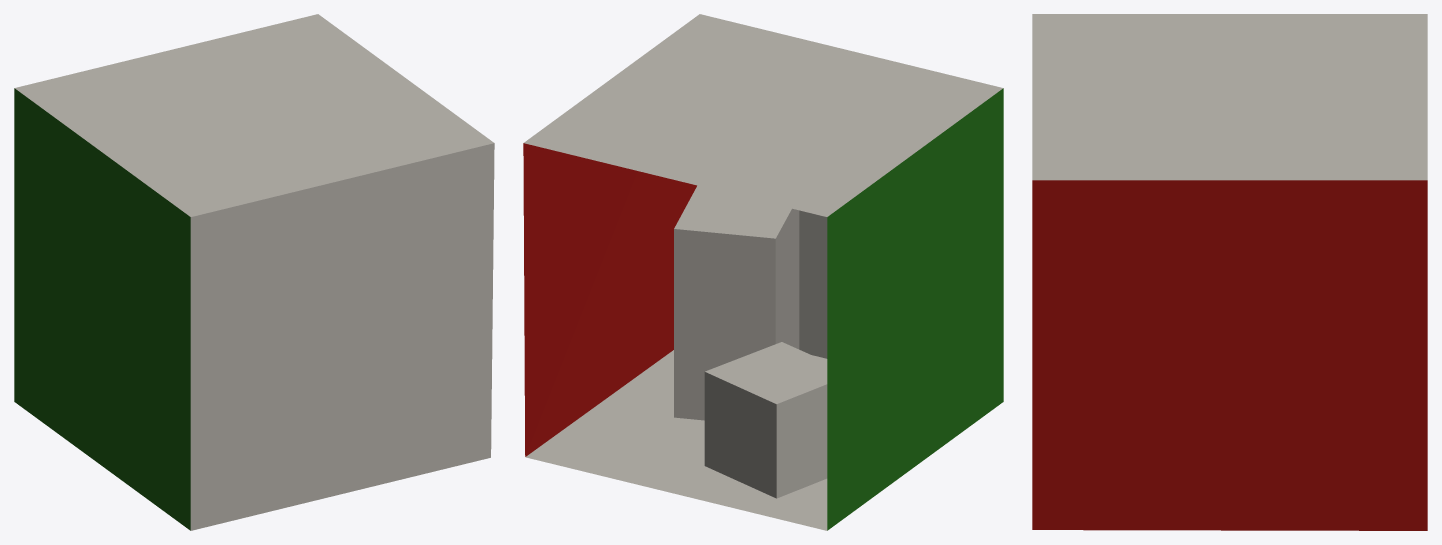
3 renders of one model, left to right at view 1: azimuth 30°, elevation 25°; view 2: azimuth 150°, elevation 25°; view 3: azimuth 270°, elevation 25°, orthographic. The views are drawn at different scales.
Visible parts, largest first — view 1: back_wall, right_wall, ceiling; view 2: right_wall, ceiling, left_wall, tall_block, floor, short_box, back_wall; view 3: left_wall, ceiling.
Part boxes in pixels (x1,y1,x2,y2): back_wall: (190, 143, 494, 530); right_wall: (14, 88, 190, 530); ceiling: (14, 14, 493, 216); right_wall: (827, 88, 1003, 530); ceiling: (524, 14, 1003, 216); left_wall: (523, 143, 696, 456); tall_block: (674, 185, 799, 420); floor: (525, 350, 827, 530); short_box: (704, 342, 827, 498); back_wall: (799, 210, 827, 358); left_wall: (1032, 180, 1427, 530); ceiling: (1032, 14, 1427, 180).
Size of the model in its own units: 556 by 549 by 559.
